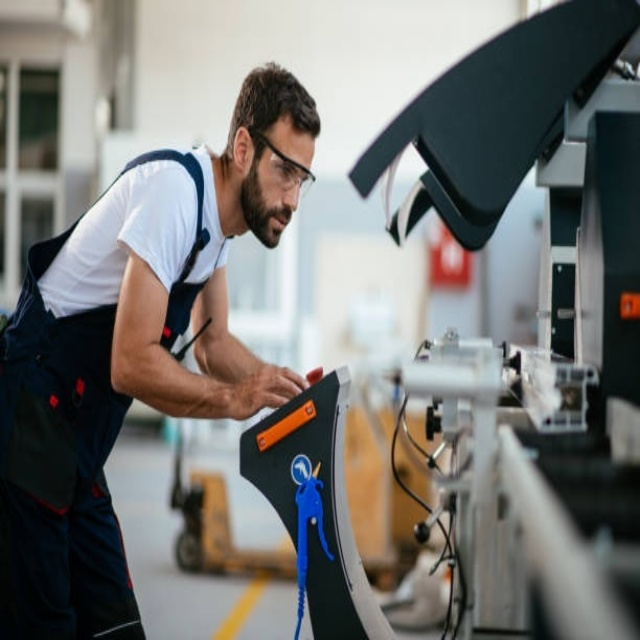Gafas: (251, 128, 316, 199)
Sin_guantes: (233, 347, 312, 417)
Sin_mascara: (264, 209, 292, 245)
